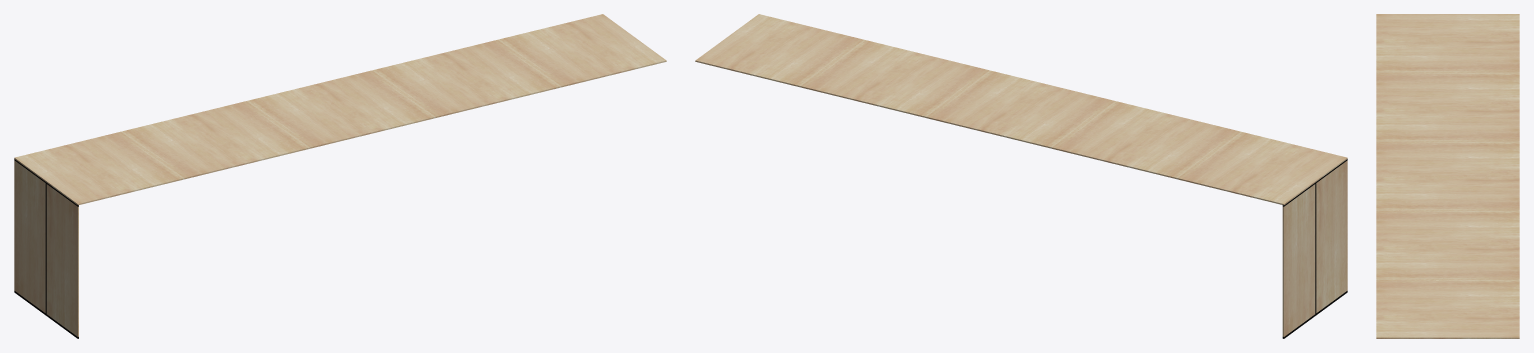
File: rear-top-plywood.glb
The picture shows the model from 3 angles, left to right: view 1: azimuth 30°, elevation 25°; view 2: azimuth 150°, elevation 25°; view 3: azimuth 270°, elevation 25°; orthographic projection. The views are drawn at different scales.
Visible parts, largest first — view 1: Obj_40FT HC Blank_Plywood_reartop, Obj_40FT HC Blank_Plywood_reartop_7, Obj_40FT HC Blank_Plywood_reartop_5, Obj_40FT HC Blank_Plywood_reartop_6, Obj_40FT HC Blank_Plywood_reartop_8, Obj_40FT HC Blank_Plywood_reartop_4, Obj_40FT HC Blank_Plywood_reartop_9, 40FT HC Blank_Plywood_reartop, Obj_40FT HC Blank_Plywood_reartop_1, Obj_40FT HC Blank_Plywood_reartop_2, Obj_40FT HC Blank_Plywood_reartop_3; view 2: Obj_40FT HC Blank_Plywood_reartop, Obj_40FT HC Blank_Plywood_reartop_7, Obj_40FT HC Blank_Plywood_reartop_5, Obj_40FT HC Blank_Plywood_reartop_6, Obj_40FT HC Blank_Plywood_reartop_8, Obj_40FT HC Blank_Plywood_reartop_4, Obj_40FT HC Blank_Plywood_reartop_9, 40FT HC Blank_Plywood_reartop, Obj_40FT HC Blank_Plywood_reartop_2, Obj_40FT HC Blank_Plywood_reartop_1, Obj_40FT HC Blank_Plywood_reartop_3; view 3: 40FT HC Blank_Plywood_reartop, Obj_40FT HC Blank_Plywood_reartop, Obj_40FT HC Blank_Plywood_reartop_4, Obj_40FT HC Blank_Plywood_reartop_5, Obj_40FT HC Blank_Plywood_reartop_6, Obj_40FT HC Blank_Plywood_reartop_7, Obj_40FT HC Blank_Plywood_reartop_8, Obj_40FT HC Blank_Plywood_reartop_9.
Part boxes in pixels (x1,y1,x2,y2): Obj_40FT HC Blank_Plywood_reartop: (14, 139, 151, 205); Obj_40FT HC Blank_Plywood_reartop_7: (310, 67, 447, 133); Obj_40FT HC Blank_Plywood_reartop_5: (162, 103, 299, 169); Obj_40FT HC Blank_Plywood_reartop_6: (236, 85, 373, 150); Obj_40FT HC Blank_Plywood_reartop_8: (384, 49, 520, 115); Obj_40FT HC Blank_Plywood_reartop_4: (89, 121, 225, 187); Obj_40FT HC Blank_Plywood_reartop_9: (457, 31, 594, 97); 40FT HC Blank_Plywood_reartop: (531, 14, 666, 79); Obj_40FT HC Blank_Plywood_reartop_1: (46, 184, 78, 336); Obj_40FT HC Blank_Plywood_reartop_2: (14, 160, 45, 312); Obj_40FT HC Blank_Plywood_reartop_3: (14, 159, 78, 338); Obj_40FT HC Blank_Plywood_reartop: (1210, 139, 1347, 205); Obj_40FT HC Blank_Plywood_reartop_7: (914, 67, 1051, 133); Obj_40FT HC Blank_Plywood_reartop_5: (1062, 103, 1199, 169); Obj_40FT HC Blank_Plywood_reartop_6: (988, 85, 1125, 150); Obj_40FT HC Blank_Plywood_reartop_8: (841, 49, 977, 115); Obj_40FT HC Blank_Plywood_reartop_4: (1136, 121, 1272, 187); Obj_40FT HC Blank_Plywood_reartop_9: (767, 31, 904, 97); 40FT HC Blank_Plywood_reartop: (695, 14, 830, 79); Obj_40FT HC Blank_Plywood_reartop_2: (1282, 184, 1315, 336); Obj_40FT HC Blank_Plywood_reartop_1: (1316, 160, 1347, 312); Obj_40FT HC Blank_Plywood_reartop_3: (1282, 159, 1347, 338); 40FT HC Blank_Plywood_reartop: (1376, 297, 1519, 338); Obj_40FT HC Blank_Plywood_reartop: (1376, 14, 1519, 54); Obj_40FT HC Blank_Plywood_reartop_4: (1376, 54, 1519, 94); Obj_40FT HC Blank_Plywood_reartop_5: (1376, 95, 1519, 135); Obj_40FT HC Blank_Plywood_reartop_6: (1376, 136, 1519, 176); Obj_40FT HC Blank_Plywood_reartop_7: (1376, 176, 1519, 216); Obj_40FT HC Blank_Plywood_reartop_8: (1376, 217, 1519, 257); Obj_40FT HC Blank_Plywood_reartop_9: (1376, 257, 1519, 297).
Size of the model in its own units: 11.9 by 2.61 by 2.22.
Materials: 2 (1 with a texture image).
